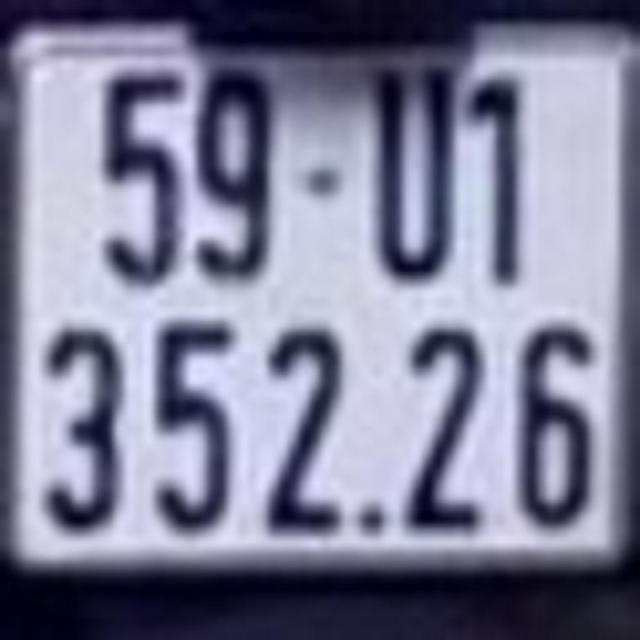1: (471, 72, 523, 283)
2: (399, 319, 484, 528), (260, 319, 344, 530)
3: (40, 322, 124, 535)
5: (144, 314, 235, 528), (100, 72, 186, 283)
6: (508, 321, 599, 529)
9: (194, 61, 270, 284)
U: (369, 59, 465, 279)
